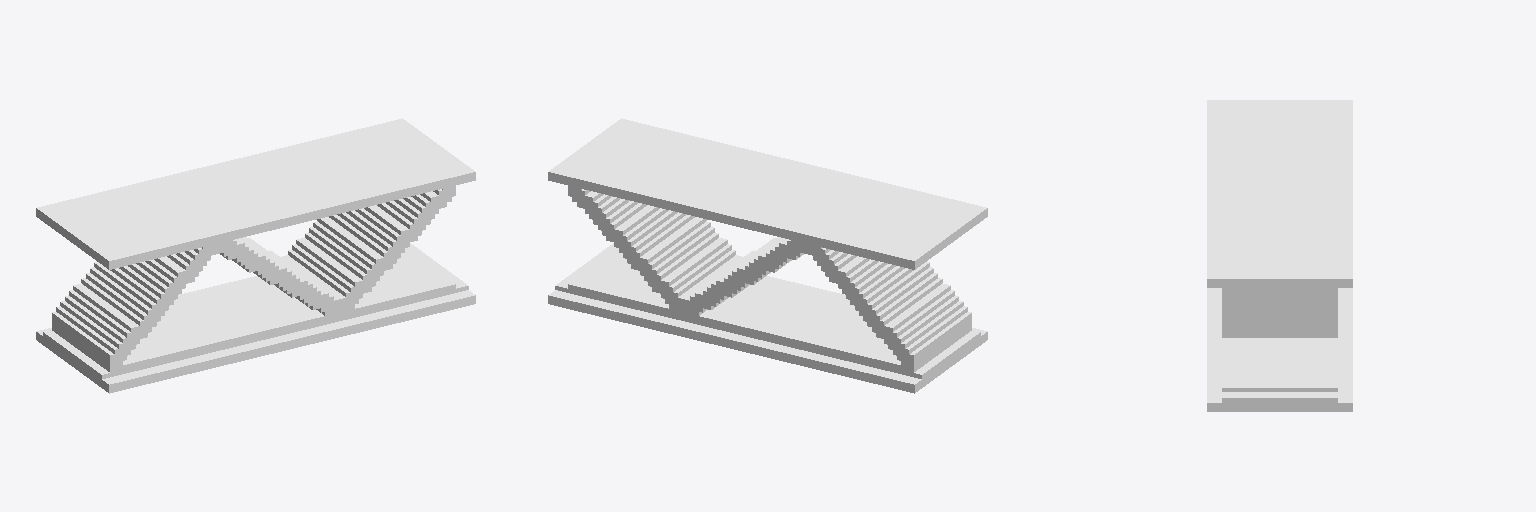
The model's file is poutre3x1.obj.
3 renders of one model, left to right at view 1: azimuth 30°, elevation 25°; view 2: azimuth 150°, elevation 25°; view 3: azimuth 270°, elevation 25°, orthographic.
Bounding box in the file's own units: 87 × 30 × 30.